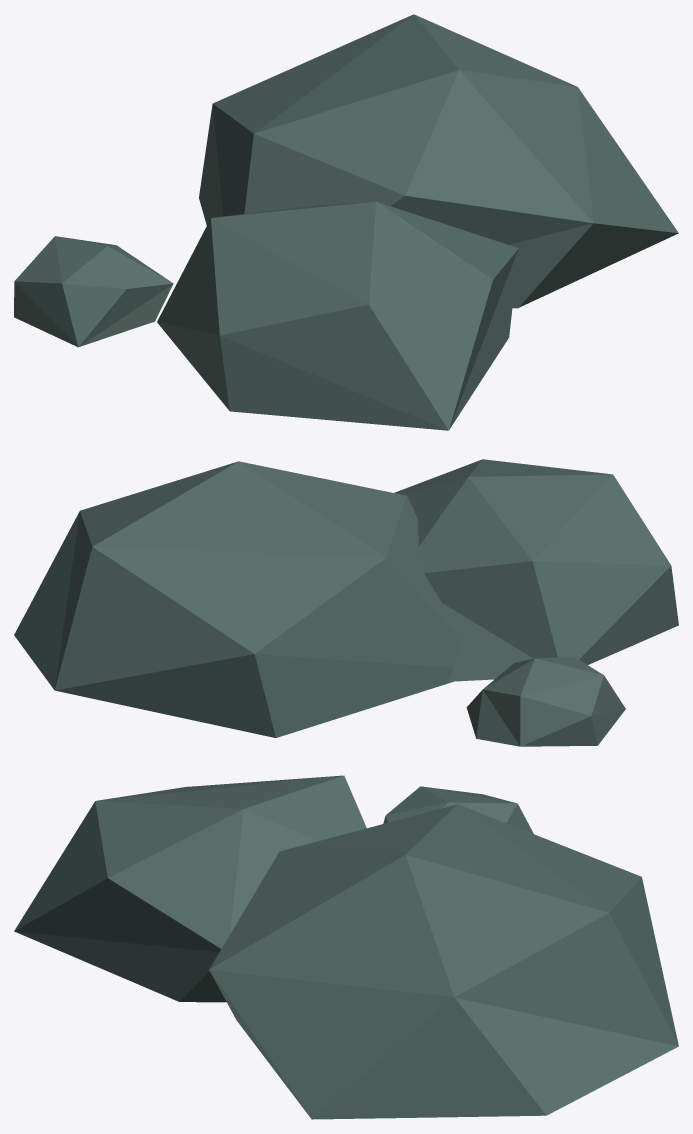
Rendered from SM_EN_Rocks_Small_Lvl2.fbx.
3 renders of one model, top to bottom at view 1: azimuth 30°, elevation 25°; view 2: azimuth 150°, elevation 25°; view 3: azimuth 270°, elevation 25°, orthographic. The views are drawn at different scales.
Parts seen in each view (by area): view 1: Small Rocks_Lvl2; view 2: Small Rocks_Lvl2; view 3: Small Rocks_Lvl2.
Boxes of the visible parts, <box> form: Small Rocks_Lvl2: <box>14,14,678,430</box>; Small Rocks_Lvl2: <box>14,459,678,746</box>; Small Rocks_Lvl2: <box>14,775,678,1119</box>.
Bounding box in the file's own units: 118 × 113 × 33.14.
